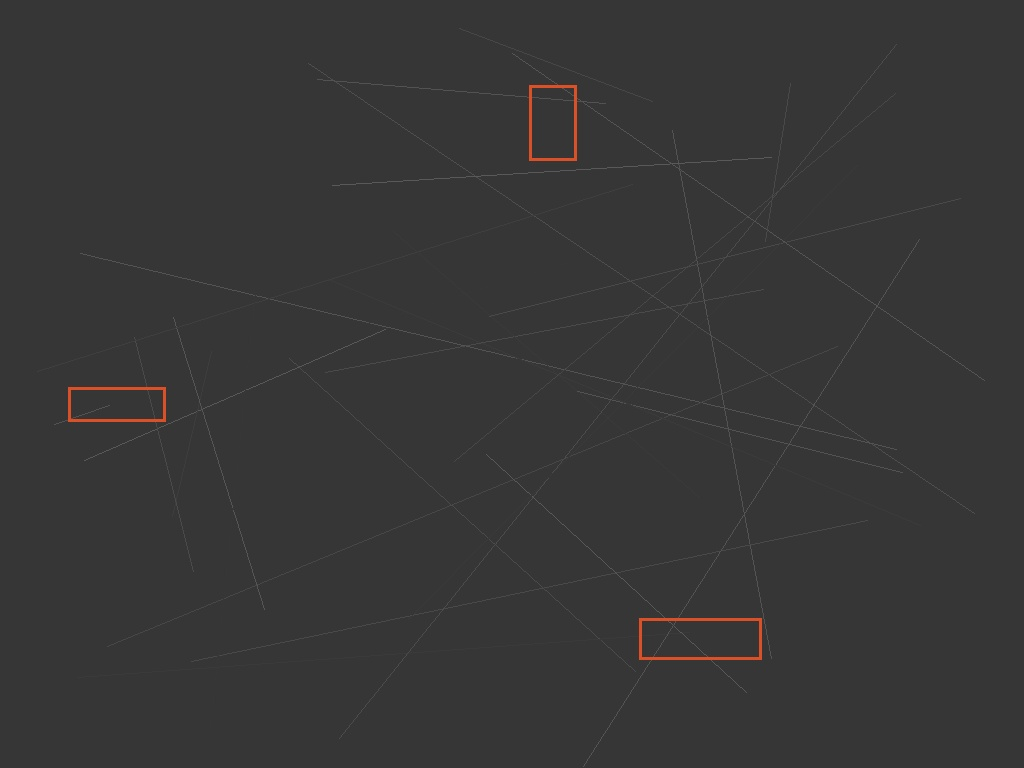D00: (68, 387, 165, 421)
D20: (639, 618, 761, 659), (529, 85, 576, 160)
